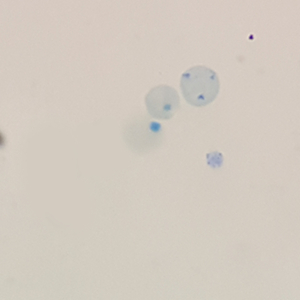aggregate reticulocyte: (179, 65, 222, 109)
erythrocyte: (121, 115, 166, 157), (143, 83, 183, 122)
